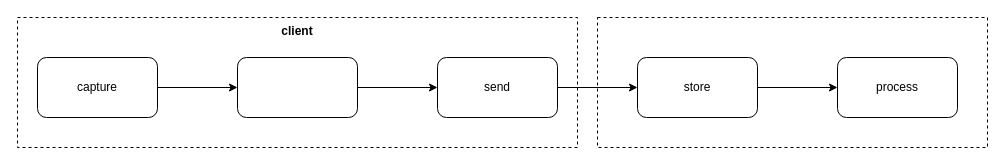
This 1005x165 diagram has some shape labels left out. The box of each missing label's shape, as (x1, y1, x2, y2) in pixels:
pre-process: (236, 56, 358, 118)
server: (596, 16, 988, 148)
